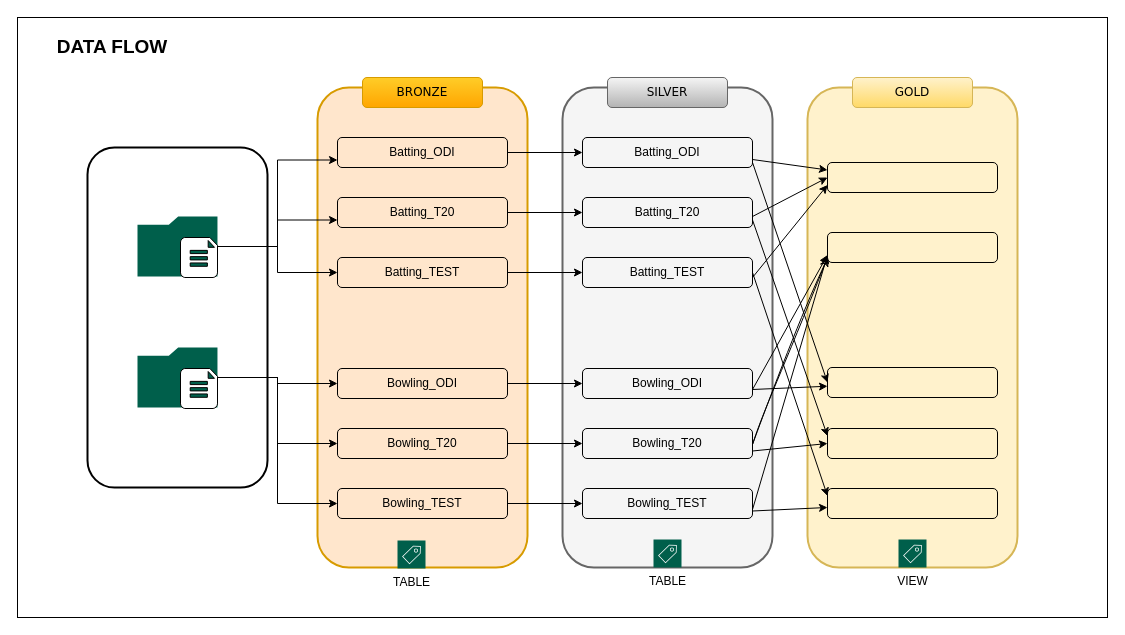
The diagram is 1125 pixels wide and 635 high, and some of its shapes have lost their labels. The box of each missing label's shape, as (x1, y1, x2, y2) in pixels:
AllRound_States_ODI: (826, 366, 998, 398)
AllRound_States_T20: (826, 428, 998, 458)
AllRound_States_TEST: (826, 488, 998, 518)
BATTING: (137, 216, 217, 276)
Batting_Sates: (826, 162, 998, 192)
BOWLING: (137, 347, 217, 407)
Bowling_Sates: (826, 232, 998, 262)
